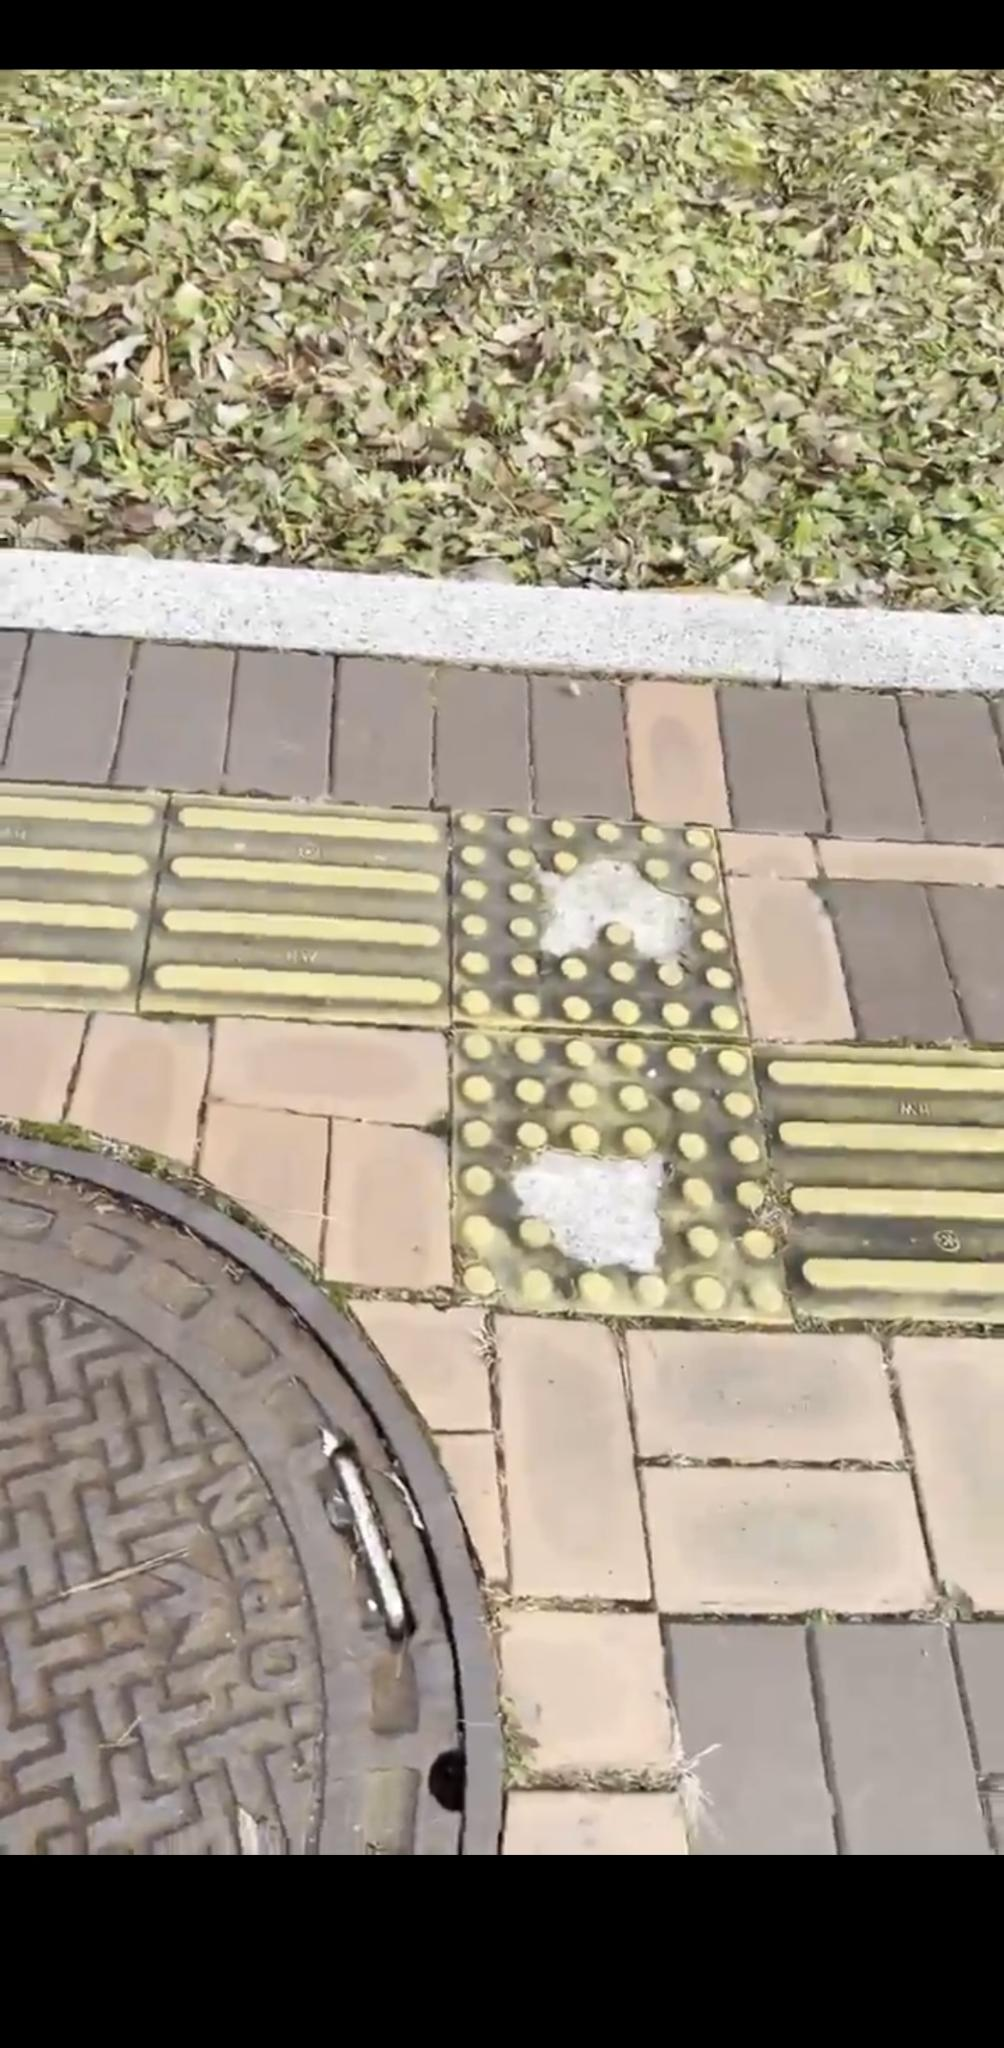Stop block broken: (453, 1031, 790, 1320), (453, 812, 747, 1036)
Straight block normal: (141, 794, 447, 1021)
